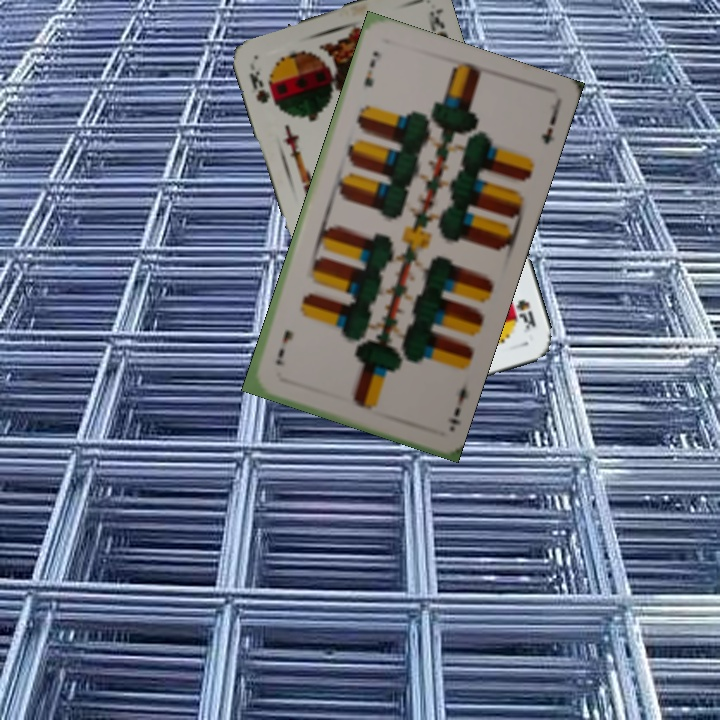E7: (445, 375, 471, 428), (360, 47, 385, 90)
SK: (245, 58, 273, 107), (512, 295, 539, 336)
